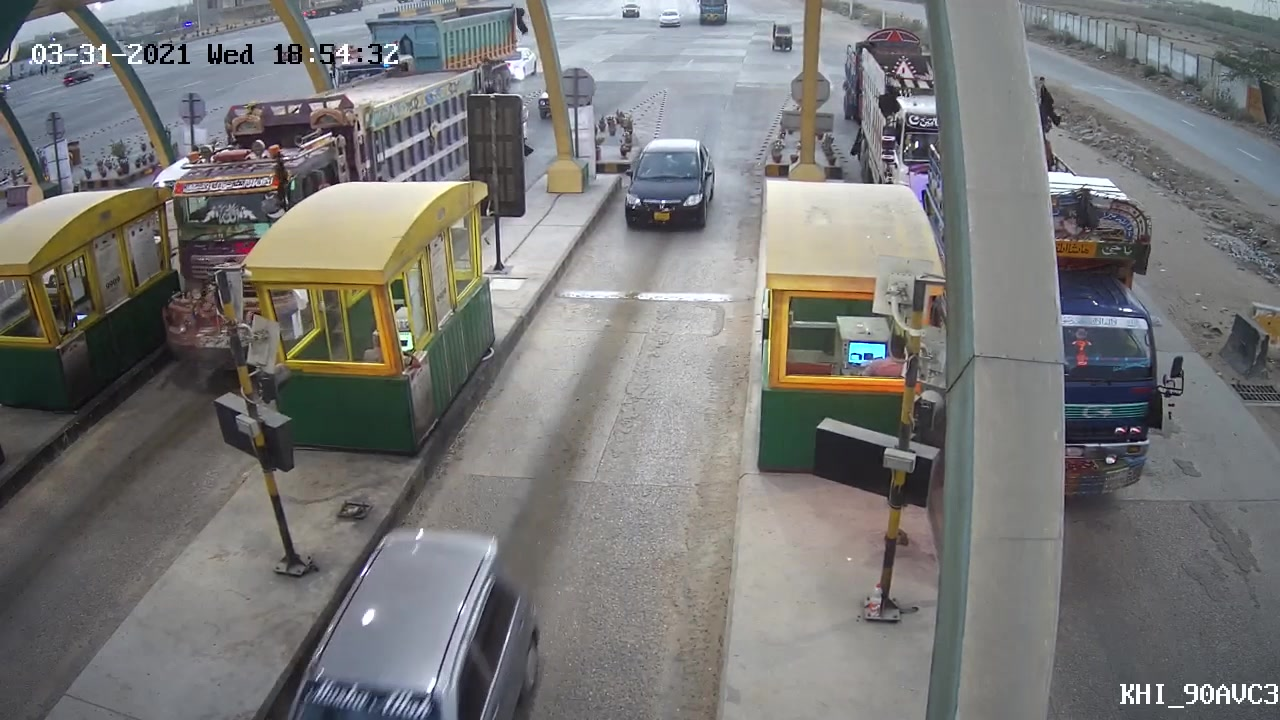F1: (619, 131, 727, 227)
